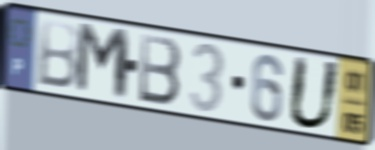3: (188, 41, 229, 116)
6: (248, 50, 286, 124)
B: (34, 16, 84, 92), (137, 31, 183, 109)
M: (74, 19, 132, 105)
U: (285, 52, 343, 133)
